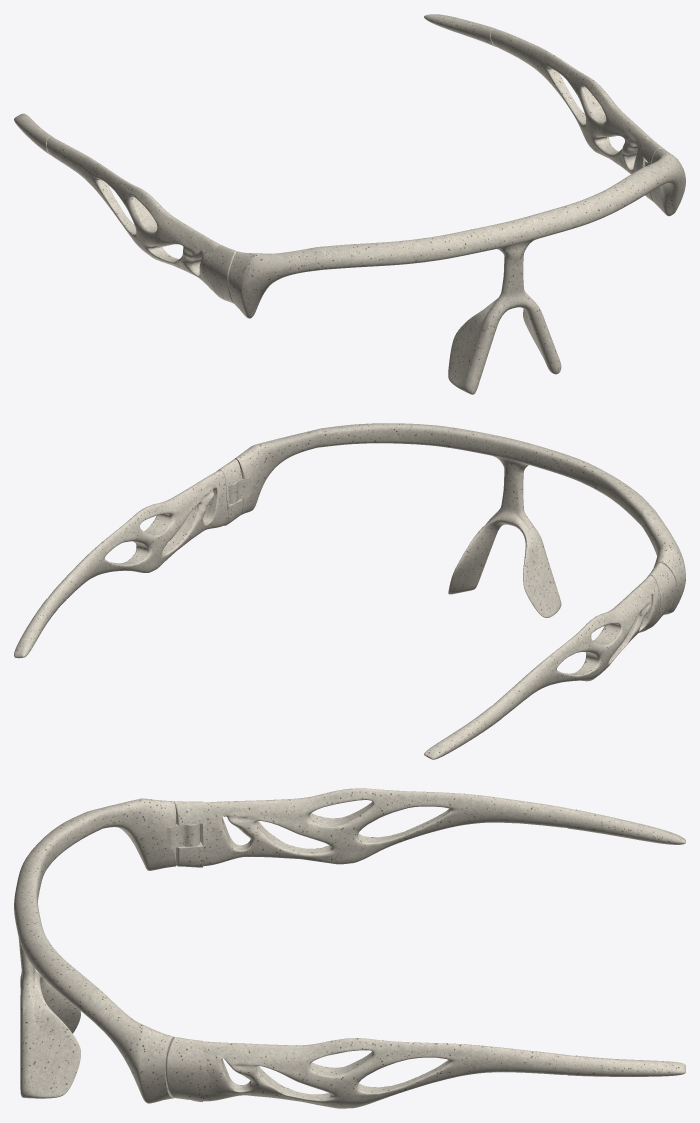
The model's file is ovum-g1.glb.
3 renders of one model, top to bottom at view 1: azimuth 30°, elevation 25°; view 2: azimuth 150°, elevation 25°; view 3: azimuth 270°, elevation 25°, orthographic. The views are drawn at different scales.
Visible parts, largest first — view 1: frontal, patilla izquierda, patilla derecha, puente nasal; view 2: frontal, patilla derecha, patilla izquierda, puente nasal; view 3: patilla derecha, patilla izquierda, frontal, puente nasal.
Boxes of the visible parts, bbox=[...] form: frontal: bbox=[228, 148, 685, 318]; patilla izquierda: bbox=[14, 113, 237, 303]; patilla derecha: bbox=[424, 14, 663, 201]; puente nasal: bbox=[448, 239, 561, 394]; frontal: bbox=[228, 423, 685, 614]; patilla derecha: bbox=[14, 459, 243, 658]; patilla izquierda: bbox=[424, 563, 676, 759]; puente nasal: bbox=[448, 456, 561, 617]; patilla derecha: bbox=[165, 1037, 685, 1108]; patilla izquierda: bbox=[173, 788, 685, 867]; frontal: bbox=[14, 798, 200, 1103]; puente nasal: bbox=[18, 938, 80, 1098].
Size of the model in its own units: 0.1532 by 0.0502 by 0.1674.
Materials: 1 (1 with a texture image).
